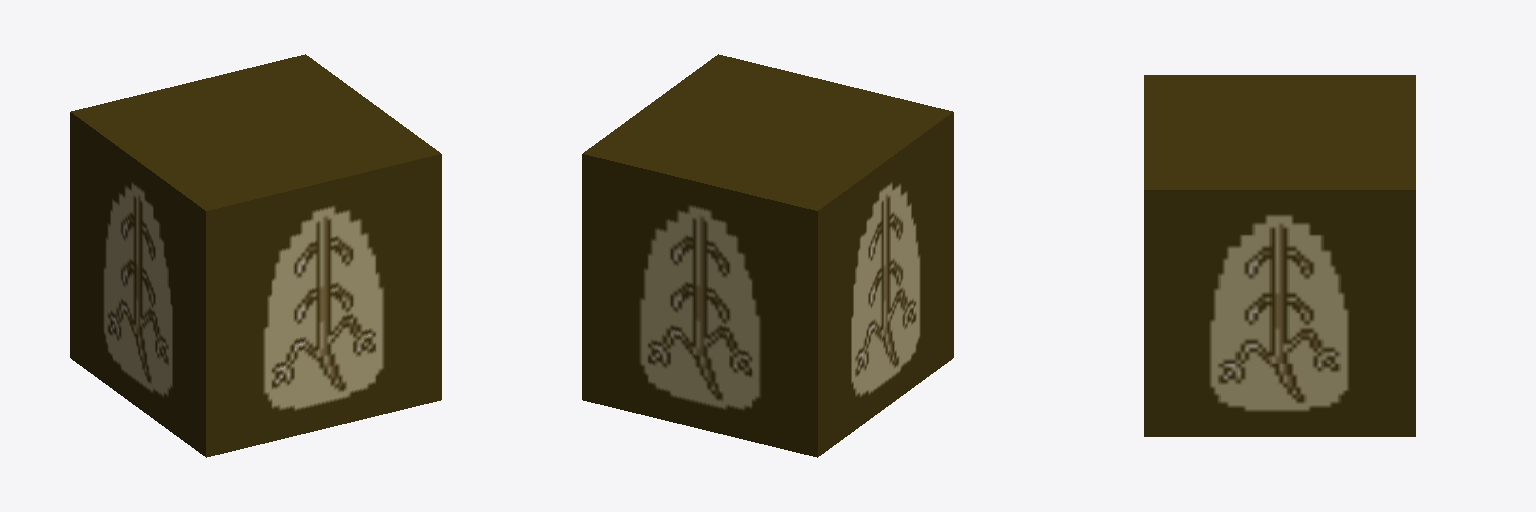
3 renders of one model, left to right at view 1: azimuth 30°, elevation 25°; view 2: azimuth 150°, elevation 25°; view 3: azimuth 270°, elevation 25°, orthographic.
Parts seen in each view (by area): view 1: Cube; view 2: Cube; view 3: Cube.
Boxes of the visible parts, box(x1,y1,x2,y2) form: Cube: box(70, 54, 441, 457); Cube: box(582, 54, 953, 457); Cube: box(1144, 75, 1415, 436).
Bounding box in the file's own units: 2 × 2 × 2.
1 materials, 1 textured.